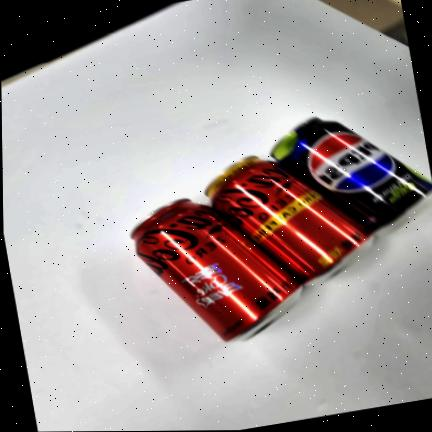can_coke_decaf: (205, 156, 374, 287)
can_coke_zero: (132, 199, 302, 341)
can_pepsi_zero: (271, 118, 432, 230)
